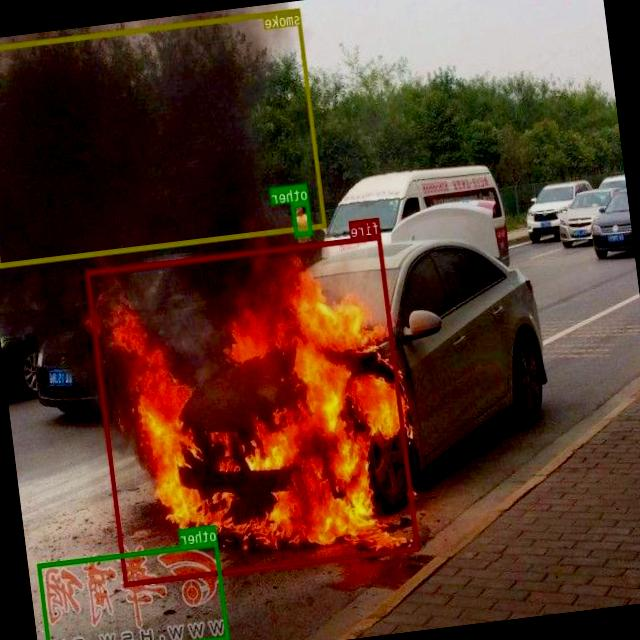fire: (87, 234, 420, 586)
smoke: (0, 7, 326, 267)
